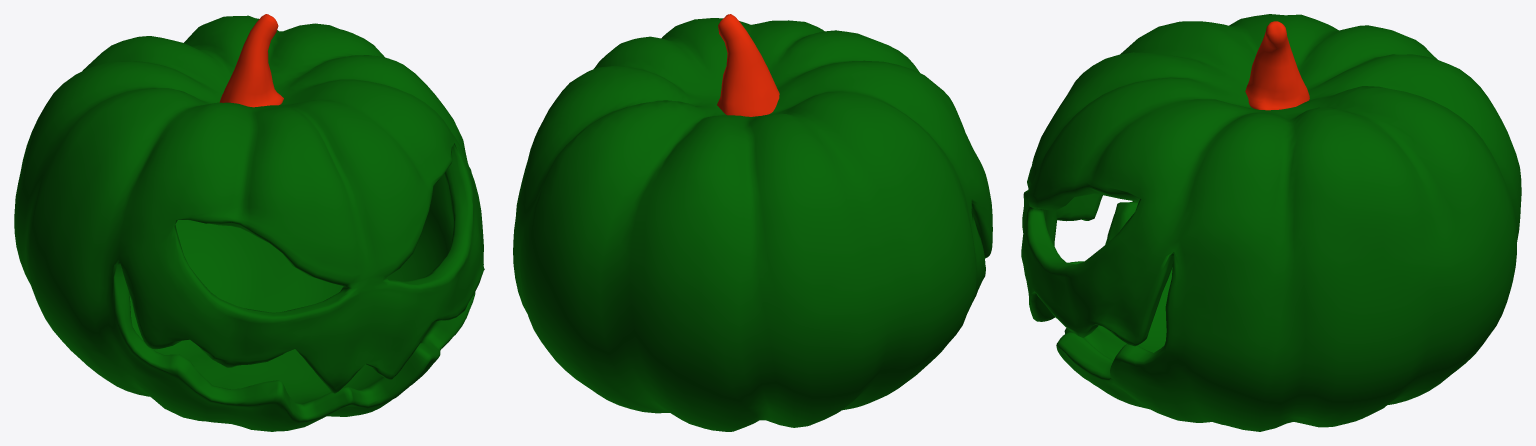
The model's file is pumpkin6.fbx.
3 views of the same model, side by side, from view 1: azimuth 30°, elevation 25°; view 2: azimuth 150°, elevation 25°; view 3: azimuth 270°, elevation 25° (orthographic). The views are drawn at different scales.
Visible parts, largest first — view 1: Pumpkin_LP; view 2: Pumpkin_LP; view 3: Pumpkin_LP.
Boxes of the visible parts, x1,y1,x2,y2 form: Pumpkin_LP: (14,14,484,431); Pumpkin_LP: (513,14,992,431); Pumpkin_LP: (1021,14,1521,431).
Size of the model in its own units: 190 by 165 by 198.
